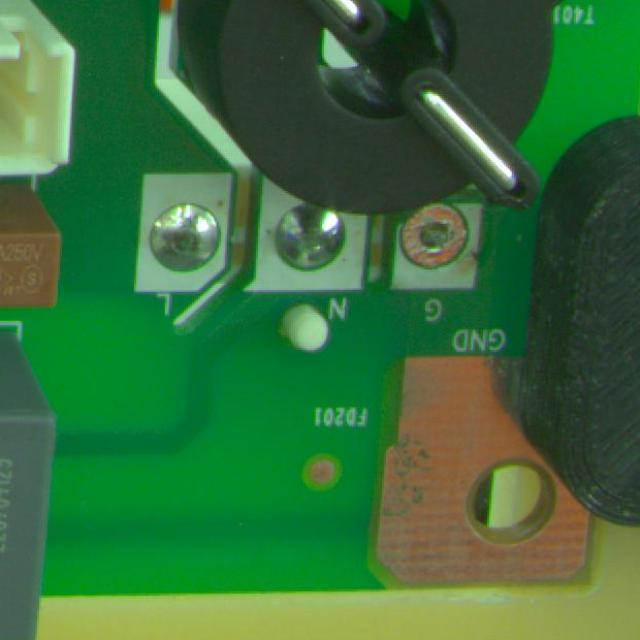Insufficient solder: (393, 197, 472, 276)
